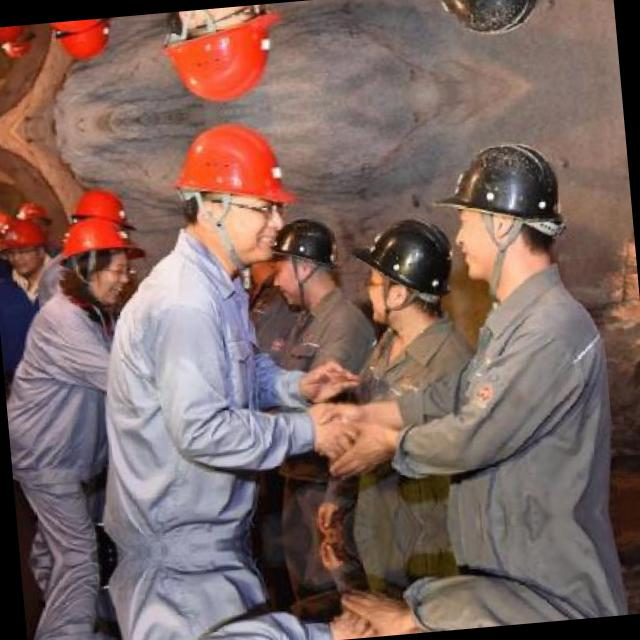helmet: (426, 129, 570, 291), (164, 116, 296, 266), (154, 3, 284, 107), (346, 210, 454, 324), (50, 213, 150, 304), (264, 212, 342, 304), (413, 0, 550, 47), (66, 180, 139, 248), (52, 16, 124, 65), (0, 213, 47, 274), (16, 196, 52, 236), (0, 24, 37, 62), (0, 24, 28, 45)
